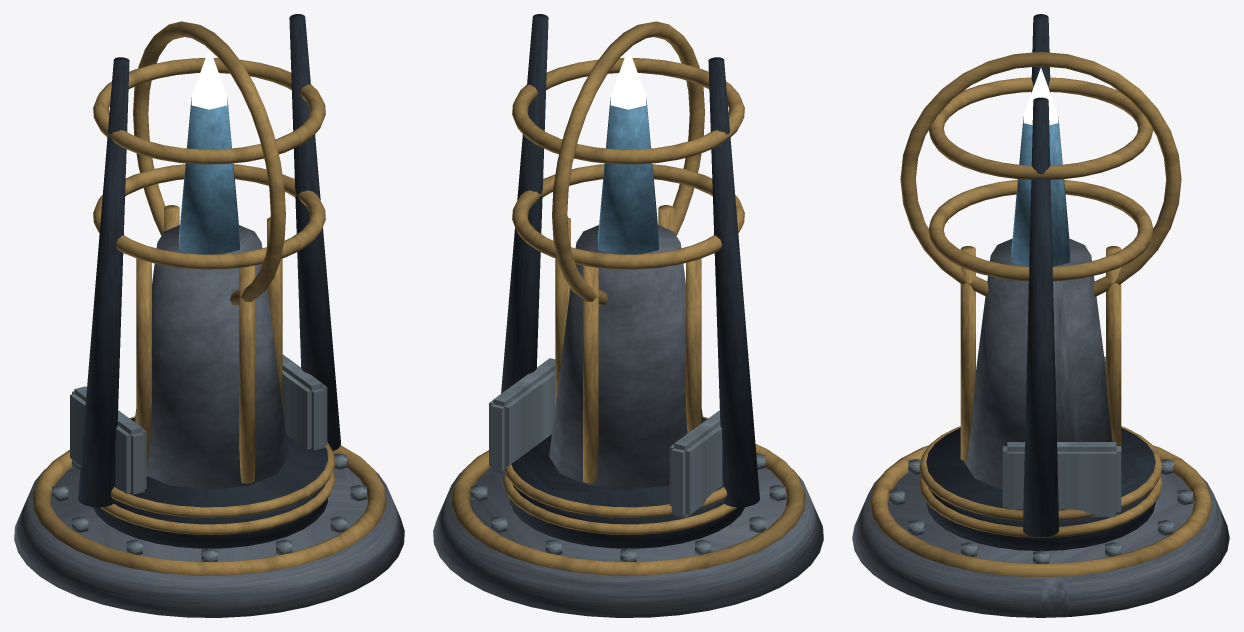
File: tower_amp_2.glb
3 views of the same model, side by side, from view 1: azimuth 30°, elevation 25°; view 2: azimuth 150°, elevation 25°; view 3: azimuth 270°, elevation 25° (orthographic). The views are drawn at different scales.
Parts seen in each view (by area): view 1: Weathered_granite, Antique_brass, Forged_black_iron.001, Antique_brass.001, Forged_black_iron, Weathered_blue_steel, Blue_glacial_ice, Soul_light; view 2: Weathered_granite, Antique_brass, Antique_brass.001, Forged_black_iron.001, Weathered_blue_steel, Forged_black_iron, Blue_glacial_ice, Soul_light; view 3: Weathered_granite, Antique_brass.001, Antique_brass, Forged_black_iron.001, Forged_black_iron, Weathered_blue_steel, Blue_glacial_ice, Soul_light.
Part boxes in pixels (x1,y1,x2,y2): Weathered_granite: (14,225,404,617); Antique_brass: (32,205,386,575); Forged_black_iron.001: (78,14,340,507); Antique_brass.001: (93,21,325,305); Forged_black_iron: (93,418,327,548); Weathered_blue_steel: (52,354,366,561); Blue_glacial_ice: (179,97,239,254); Soul_light: (191,49,227,109); Weathered_granite: (433,225,823,617); Antique_brass: (451,205,805,575); Antique_brass.001: (512,21,744,305); Forged_black_iron.001: (501,14,759,507); Weathered_blue_steel: (471,358,785,561); Forged_black_iron: (510,418,744,548); Blue_glacial_ice: (598,97,658,254); Soul_light: (610,49,646,109); Weathered_granite: (852,238,1229,617); Antique_brass.001: (900,52,1181,296); Antique_brass: (869,246,1212,577); Forged_black_iron.001: (1022,14,1059,537); Forged_black_iron: (926,427,1155,550); Weathered_blue_steel: (889,356,1192,563); Blue_glacial_ice: (1011,117,1070,266); Soul_light: (1023,68,1058,125).
Bounding box in the file's own units: 2.7 × 3.84 × 2.7.
6 materials, 5 textured.
